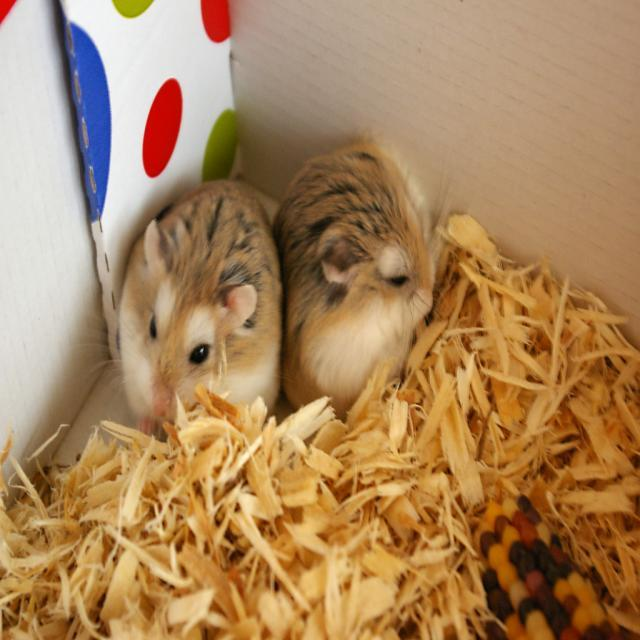rat: (278, 138, 442, 421), (116, 176, 282, 436)
